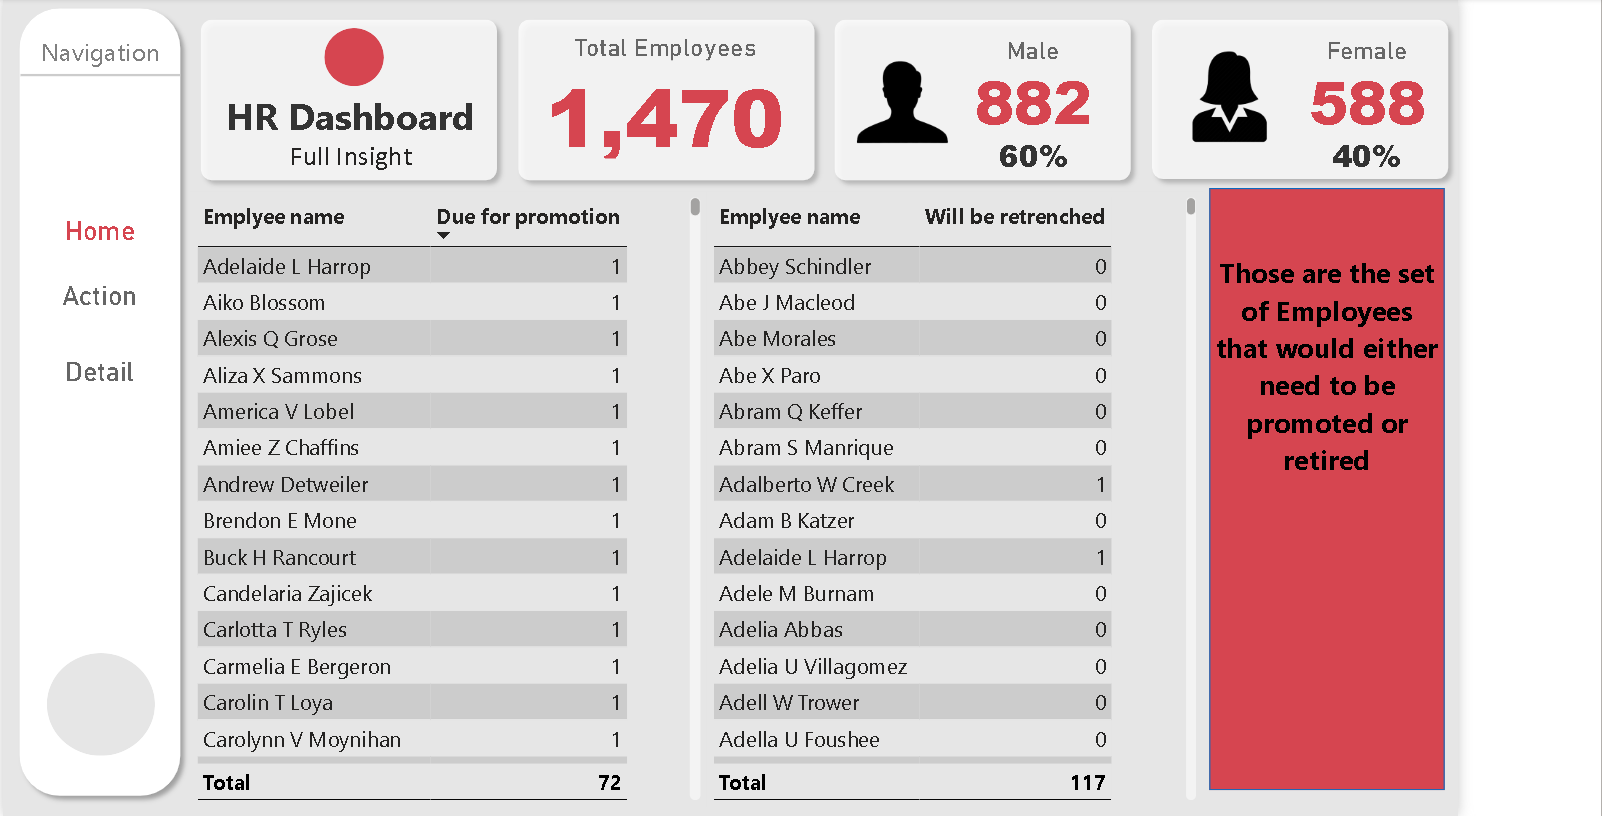

What the dashboard file says about the page in this screenshot:
{"tool":"powerbi","page":{"name":"Action","canvas":[1280,720],"ordinal":1},"visuals":[{"type":"shape","box":[1060.7,166.7,207.1,529.8],"z":0},{"type":"shape","box":[6,0,159.5,710.7],"z":1000},{"type":"shape","box":[165.5,9.5,278.6,159.5],"z":2000},{"type":"shape","box":[444,9.5,278.6,159.5],"z":3000},{"type":"shape","box":[722.6,9.5,278.6,159.5],"z":4000},{"type":"shape","box":[1001.2,9.5,278.6,158.3],"z":5000},{"type":"textbox","box":[177.5,77.5,257.5,66.2],"z":6000},{"type":"textbox","box":[176.2,118.8,260,50],"z":7000},{"type":"shape","box":[282.5,26.2,52.5,51.2],"z":8000},{"type":"card","title":"Total Employees","fields":{"Values":["All Measures.Total Emp"]},"box":[470,31.2,226.2,115],"z":9000},{"type":"card","title":"Male","fields":{"Values":["All Measures.Male"]},"box":[837.5,33.8,137.5,87.5],"z":10000},{"type":"card","title":"Male","fields":{"Values":["All Measures.% Male"]},"box":[855,115,102.5,47.5],"z":11000},{"type":"card","title":"Female","fields":{"Values":["All Measures.Female"]},"box":[1131.2,33.8,137.5,87.5],"z":12000},{"type":"card","title":"Male","fields":{"Values":["All Measures.% Female"]},"box":[1148.8,115,102.5,47.5],"z":13000},{"type":"image","box":[701.2,10,178.8,163.8],"z":14000},{"type":"image","box":[1018.8,31.2,121.2,112.5],"z":15000},{"type":"tableEx","fields":{"Values":["HR Analytics Data.Emplyee name","All Measures.Due for promotion"]},"box":[165.5,170.2,453.6,540.5],"z":16000},{"type":"tableEx","fields":{"Values":["HR Analytics Data.Emplyee name","All Measures.Will be retreanched"]},"box":[619.1,170.2,435.7,540.5],"z":17000},{"type":"shape","box":[38.1,576.2,95.2,90.5],"z":18000},{"type":"textbox","box":[15.5,26.2,140.5,46.4],"z":19000},{"type":"shape","box":[15.5,58.3,140.5,19],"z":20000},{"type":"actionButton","title":"Home","box":[15.4,190.7,140.1,30.2],"z":21000},{"type":"actionButton","title":"Action","box":[15.3,247.7,139.8,56.7],"z":22000},{"type":"actionButton","title":"Detail","box":[15.3,314.9,139.8,58],"z":23000},{"type":"textbox","box":[1060.7,220.2,207.1,256],"z":24000}]}

Visuals, with their boxes on the page's 1280x720 design canvas (x1, y1, x2, y2). These are canvas units, not pixel positions in the 1602x816 screenshot, which may show the page scaled, cropped or inside an application window:
shape: 1061, 167, 1268, 696
shape: 6, 0, 166, 711
shape: 166, 10, 444, 169
shape: 444, 10, 723, 169
shape: 723, 10, 1001, 169
shape: 1001, 10, 1280, 168
textbox: 178, 78, 435, 144
textbox: 176, 119, 436, 169
shape: 282, 26, 335, 77
"Total Employees" card: 470, 31, 696, 146
"Male" card: 838, 34, 975, 121
"Male" card: 855, 115, 958, 162
"Female" card: 1131, 34, 1269, 121
"Male" card: 1149, 115, 1251, 162
image: 701, 10, 880, 174
image: 1019, 31, 1140, 144
tableEx - HR Analytics Data.Emplyee name x All Measures.Due for promotion: 166, 170, 619, 711
tableEx - HR Analytics Data.Emplyee name x All Measures.Will be retreanched: 619, 170, 1055, 711
shape: 38, 576, 133, 667
textbox: 16, 26, 156, 73
shape: 16, 58, 156, 77
"Home" actionButton: 15, 191, 156, 221
"Action" actionButton: 15, 248, 155, 304
"Detail" actionButton: 15, 315, 155, 373
textbox: 1061, 220, 1268, 476
